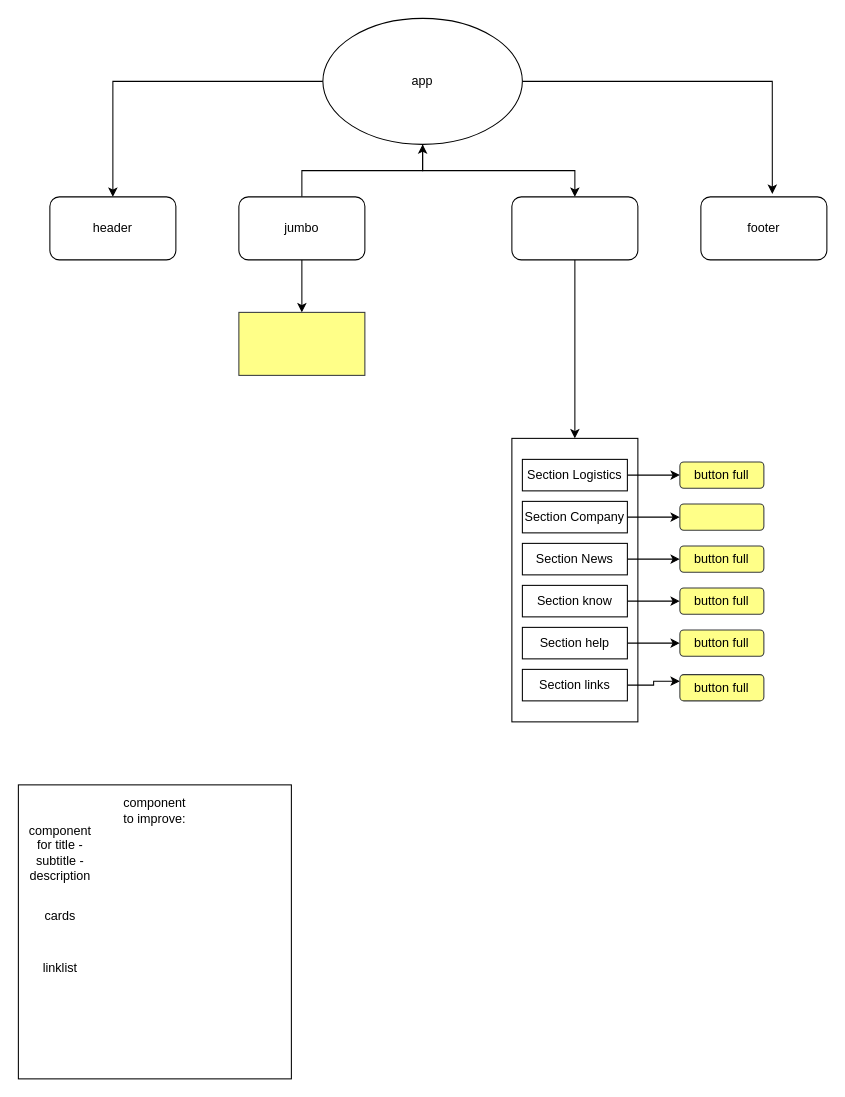
This 845x1097 diagram has some shape labels left out. Here are the shapes that lost their labels. From the top down, the centre of each, then its label:
the point at 574,228: main
the point at 301,343: nav jumbo
the point at 721,516: company footer
